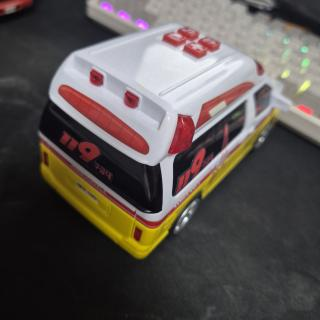Ambulance: (39, 24, 290, 257)
